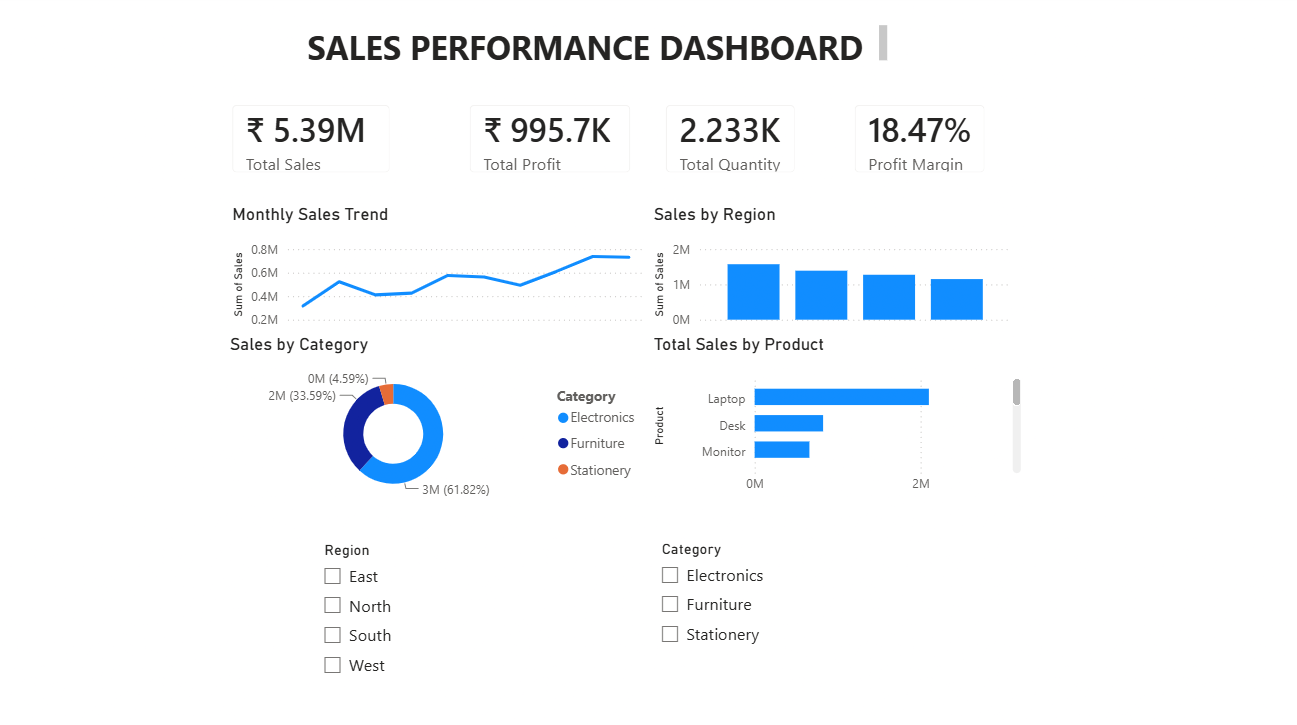

The page's visual inventory and layout, read from the dashboard file:
{"tool":"powerbi","page":{"name":"Page 1","canvas":[1280,720],"ordinal":0},"visuals":[{"type":"cardVisual","fields":{"Data":["Sales_Data.Total Sales"]},"box":[215.2,91.7,188.3,100.3],"z":0},{"type":"cardVisual","fields":{"Data":["Sales_Data.Total Profit"]},"box":[447.6,91.7,192,100.3],"z":1000},{"type":"cardVisual","fields":{"Data":["Sales_Data.Total Quantity"]},"box":[639.5,91.7,160.2,100.3],"z":2000},{"type":"cardVisual","fields":{"Data":["Sales_Data.Profit Margin"]},"box":[824.2,91.7,161.4,100.3],"z":4000},{"type":"clusteredColumnChart","title":"Sales by Region","fields":{"Category":["Sales_Data.Region"],"Y":["Sum(Sales_Data.Sales)"]},"box":[639.5,205.4,360.7,127.2],"z":5000},{"type":"donutChart","title":"Sales by Category","fields":{"Category":["Sales_Data.Category"],"Y":["Sum(Sales_Data.Sales)"]},"box":[225,332.6,414.5,165.1],"z":6000},{"type":"lineChart","title":"Monthly Sales Trend","fields":{"Y":["Sum(Sales_Data.Sales)"],"Category":["Sales_Data.Order_Date.Variation.Date Hierarchy.Month"]},"box":[227.4,205.4,412.1,127.2],"z":7000},{"type":"textbox","box":[300.8,25.7,577.1,48.6],"z":8000},{"type":"slicer","fields":{"Values":["Sales_Data.Region"]},"box":[309.4,530.7,280,149.2],"z":9000},{"type":"barChart","fields":{"Category":["Sales_Data.Product"],"Y":["Sales_Data.Total Sales"]},"box":[639.5,332.6,369.3,165.1],"z":9001},{"type":"slicer","fields":{"Values":["Sales_Data.Category"]},"box":[639.5,529.5,280,150],"z":9002}]}

Visuals, with their boxes in screenshot pixels (x1, y1, x2, y2), scaled from the page's 1280x720 canvas onto the 1297x725 screenshot:
cardVisual - Sales_Data.Total Sales: x1=218, y1=92, x2=409, y2=193
cardVisual - Sales_Data.Total Profit: x1=454, y1=92, x2=648, y2=193
cardVisual - Sales_Data.Total Quantity: x1=648, y1=92, x2=810, y2=193
cardVisual - Sales_Data.Profit Margin: x1=835, y1=92, x2=999, y2=193
"Sales by Region" clusteredColumnChart: x1=648, y1=207, x2=1013, y2=335
"Sales by Category" donutChart: x1=228, y1=335, x2=648, y2=501
"Monthly Sales Trend" lineChart: x1=230, y1=207, x2=648, y2=335
textbox: x1=305, y1=26, x2=890, y2=75
slicer - Sales_Data.Region: x1=314, y1=534, x2=597, y2=685
barChart - Sales_Data.Product x Sales_Data.Total Sales: x1=648, y1=335, x2=1022, y2=501
slicer - Sales_Data.Category: x1=648, y1=533, x2=932, y2=684
